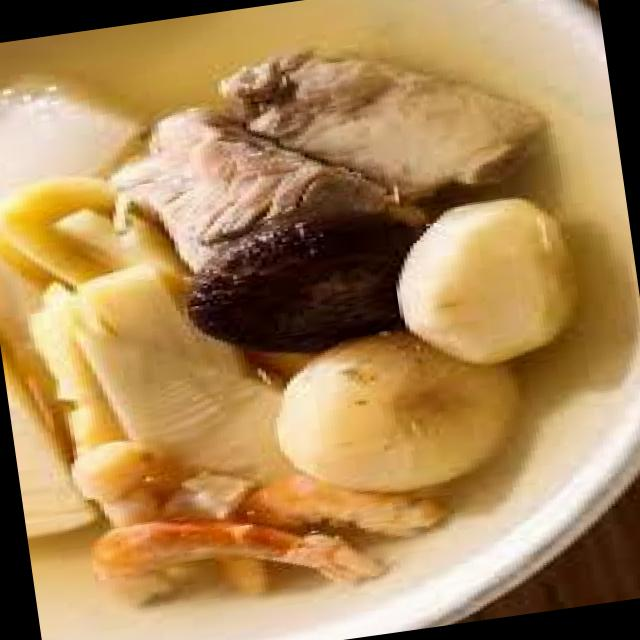organic: (0, 30, 593, 640)
